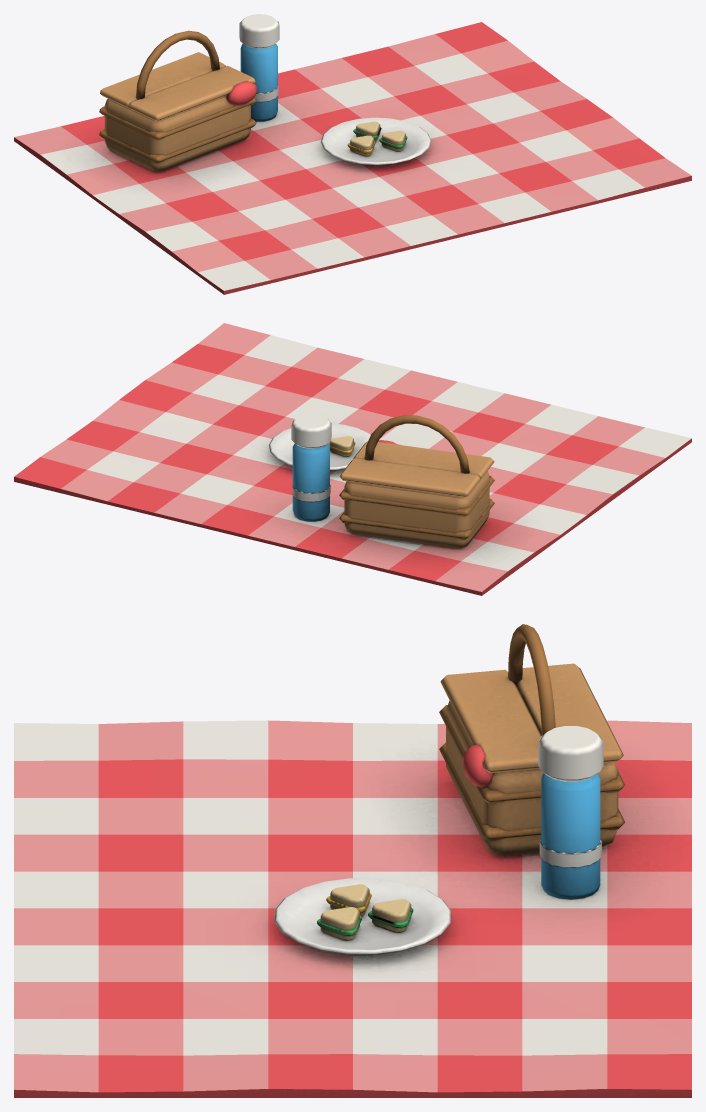
The model's file is picnic_blanket.glb.
3 views of the same model, one above another, from view 1: azimuth 30°, elevation 25°; view 2: azimuth 150°, elevation 25°; view 3: azimuth 270°, elevation 25° (orthographic). The views are drawn at different scales.
Parts seen in each view (by area): view 1: picnic_blanket; view 2: picnic_blanket; view 3: picnic_blanket.
Part boxes in pixels (x1=…): picnic_blanket: x1=14, y1=14, x2=691, y2=294; picnic_blanket: x1=14, y1=323, x2=691, y2=595; picnic_blanket: x1=14, y1=624, x2=691, y2=1097.
Size of the model in its own units: 1.8 by 0.428 by 1.4.
Materials: 11 (11 with a texture image).
